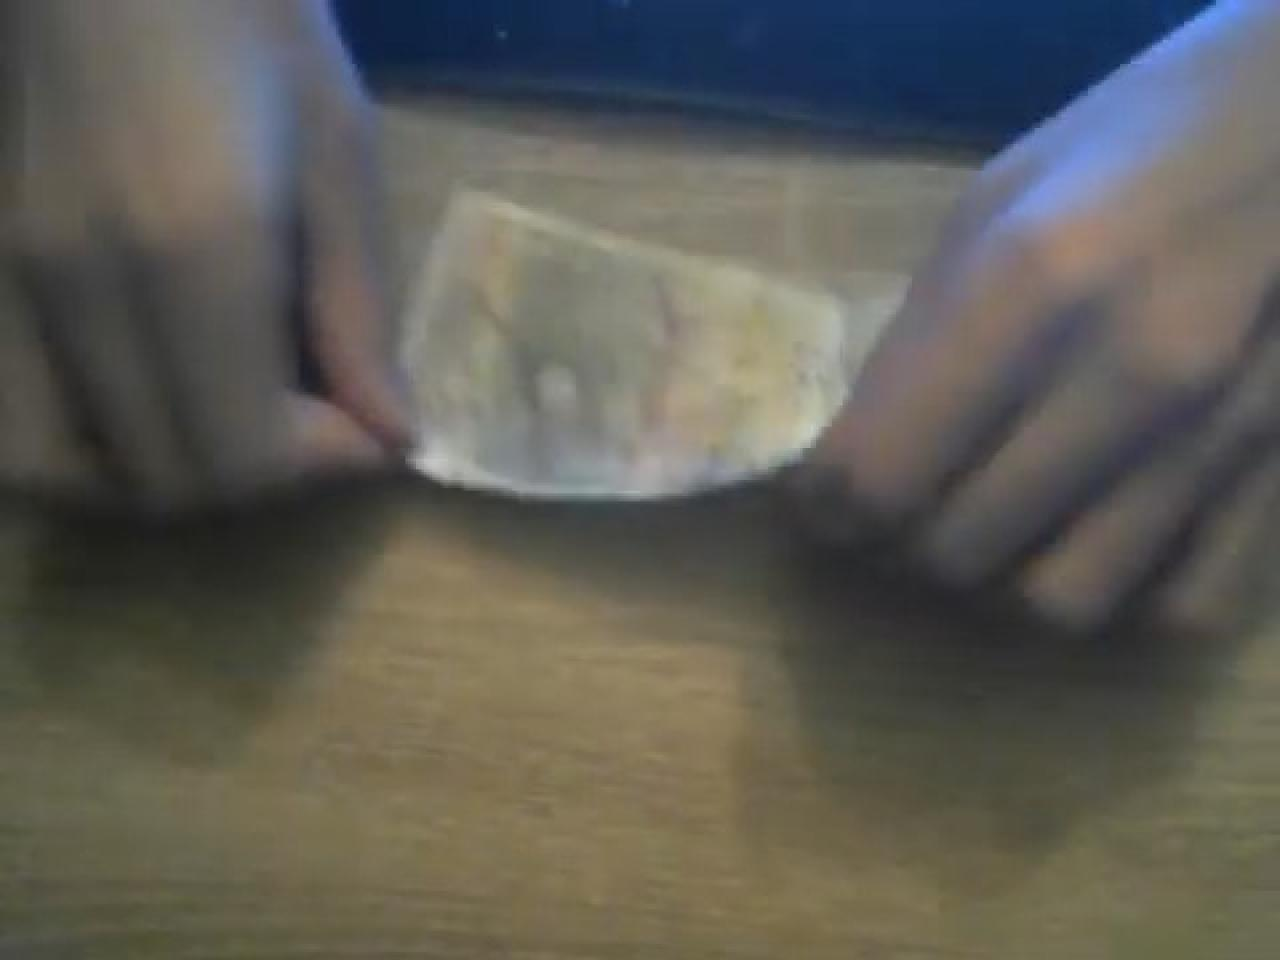10leva: (400, 190, 893, 506)
